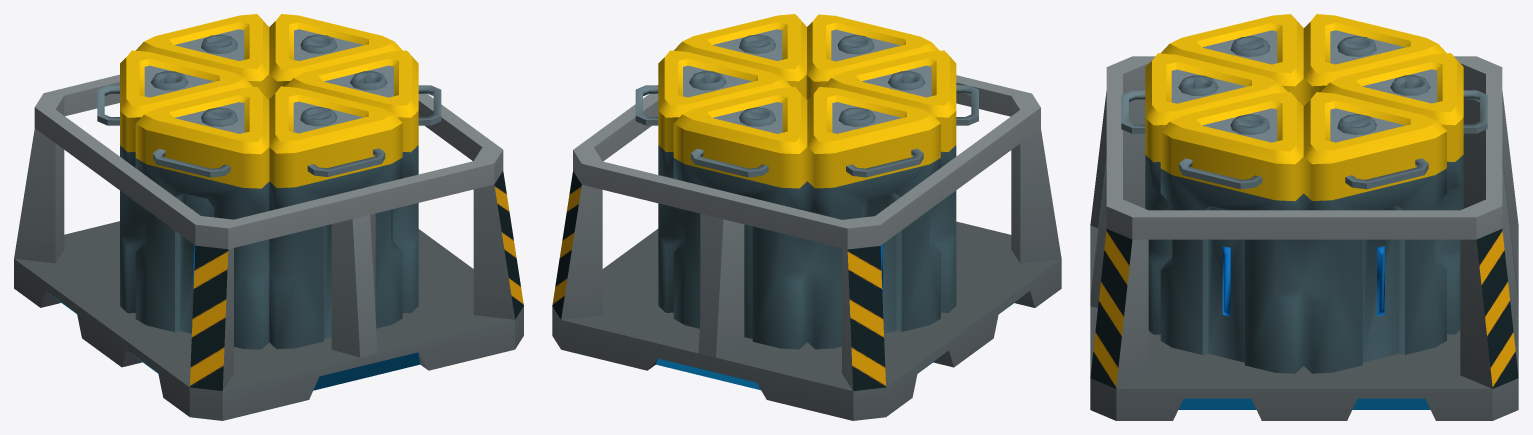
Rendered from Baloon_011.fbx.
3 views of the same model, side by side, from view 1: azimuth 30°, elevation 25°; view 2: azimuth 150°, elevation 25°; view 3: azimuth 270°, elevation 25° (orthographic). The views are drawn at different scales.
Parts seen in each view (by area): view 1: Baloon_011; view 2: Baloon_011; view 3: Baloon_011.
Boxes of the visible parts, x1,y1,x2,y2 form: Baloon_011: (14, 14, 523, 420); Baloon_011: (552, 14, 1061, 420); Baloon_011: (1090, 14, 1518, 420).
Size of the model in its own units: 170 by 176 by 114.
